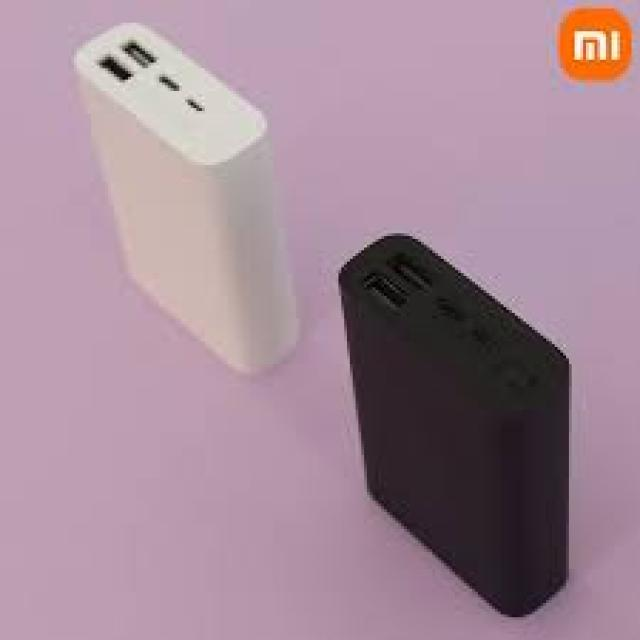power_bank: (343, 226, 573, 620), (74, 13, 308, 385)
